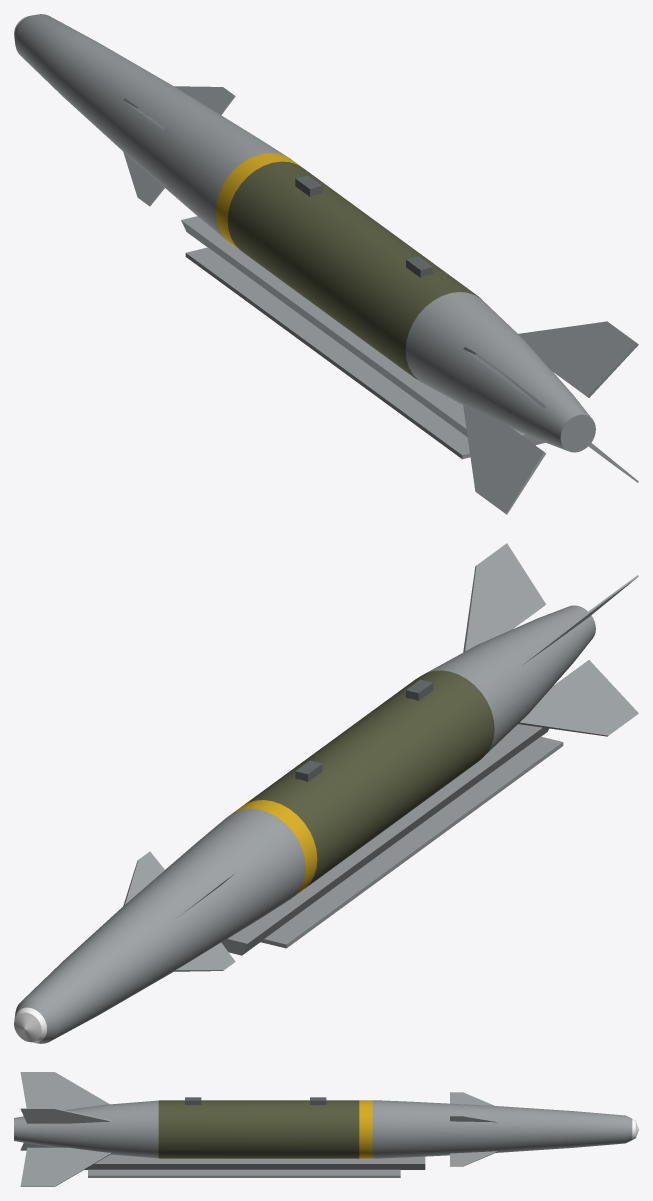
The model's file is spice1000.glb.
The picture shows the model from 3 angles, top to bottom: view 1: azimuth 30°, elevation 25°; view 2: azimuth 150°, elevation 25°; view 3: azimuth 270°, elevation 25°; orthographic projection. The views are drawn at different scales.
Visible parts, largest first — view 1: spice1000_body; view 2: spice1000_body; view 3: spice1000_body.
Boxes of the visible parts, bbox=[...] form: spice1000_body: bbox=[14, 14, 638, 514]; spice1000_body: bbox=[14, 543, 638, 1043]; spice1000_body: bbox=[14, 1072, 638, 1186].
Bounding box in the file's own units: 0.5275 × 0.5275 × 3.8.
Materials: 5 (5 with a texture image).
